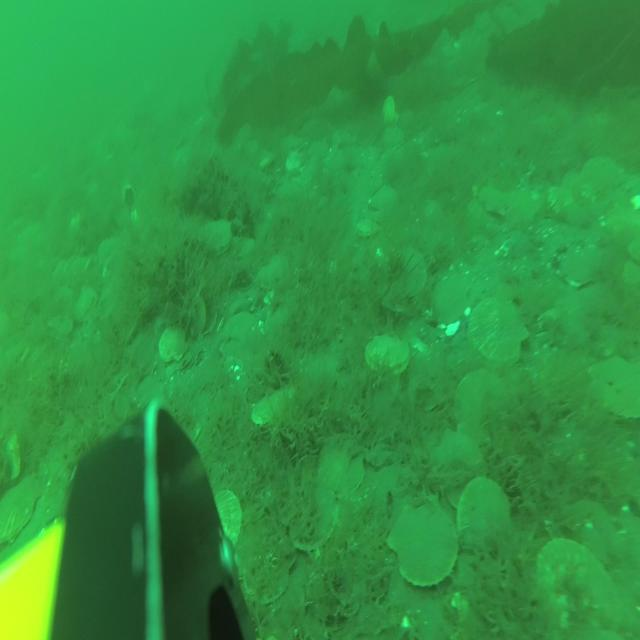scallop: (538, 538, 624, 640), (386, 496, 456, 586), (457, 474, 512, 560), (468, 293, 526, 367), (243, 518, 294, 602), (588, 355, 640, 437), (287, 476, 340, 552), (454, 370, 504, 450), (378, 249, 429, 321), (318, 436, 367, 504), (1, 472, 43, 537), (364, 329, 412, 382), (432, 269, 472, 329), (212, 484, 244, 549), (250, 389, 289, 439), (558, 249, 600, 291), (200, 215, 232, 255), (182, 289, 208, 338), (160, 326, 188, 367), (477, 183, 507, 218), (372, 181, 400, 218), (74, 290, 96, 328), (380, 121, 404, 153), (284, 148, 304, 178), (382, 94, 400, 123), (355, 213, 375, 239), (278, 131, 297, 158), (310, 142, 330, 164)
